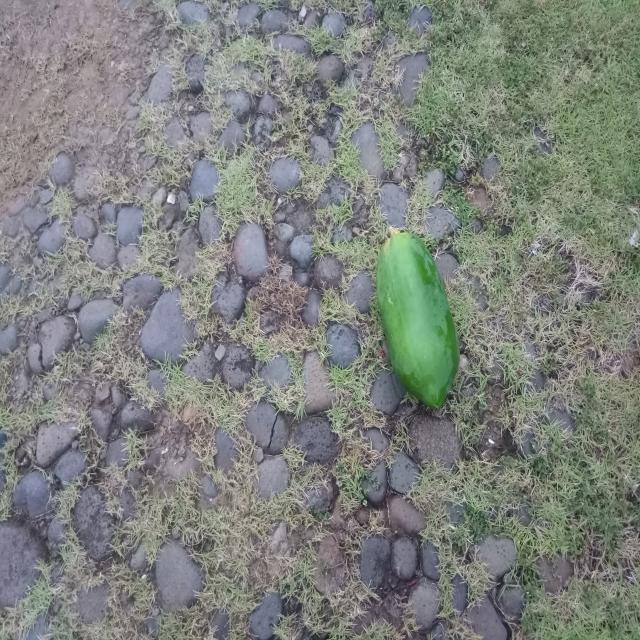Pepaya unrippen: (373, 216, 461, 412)
